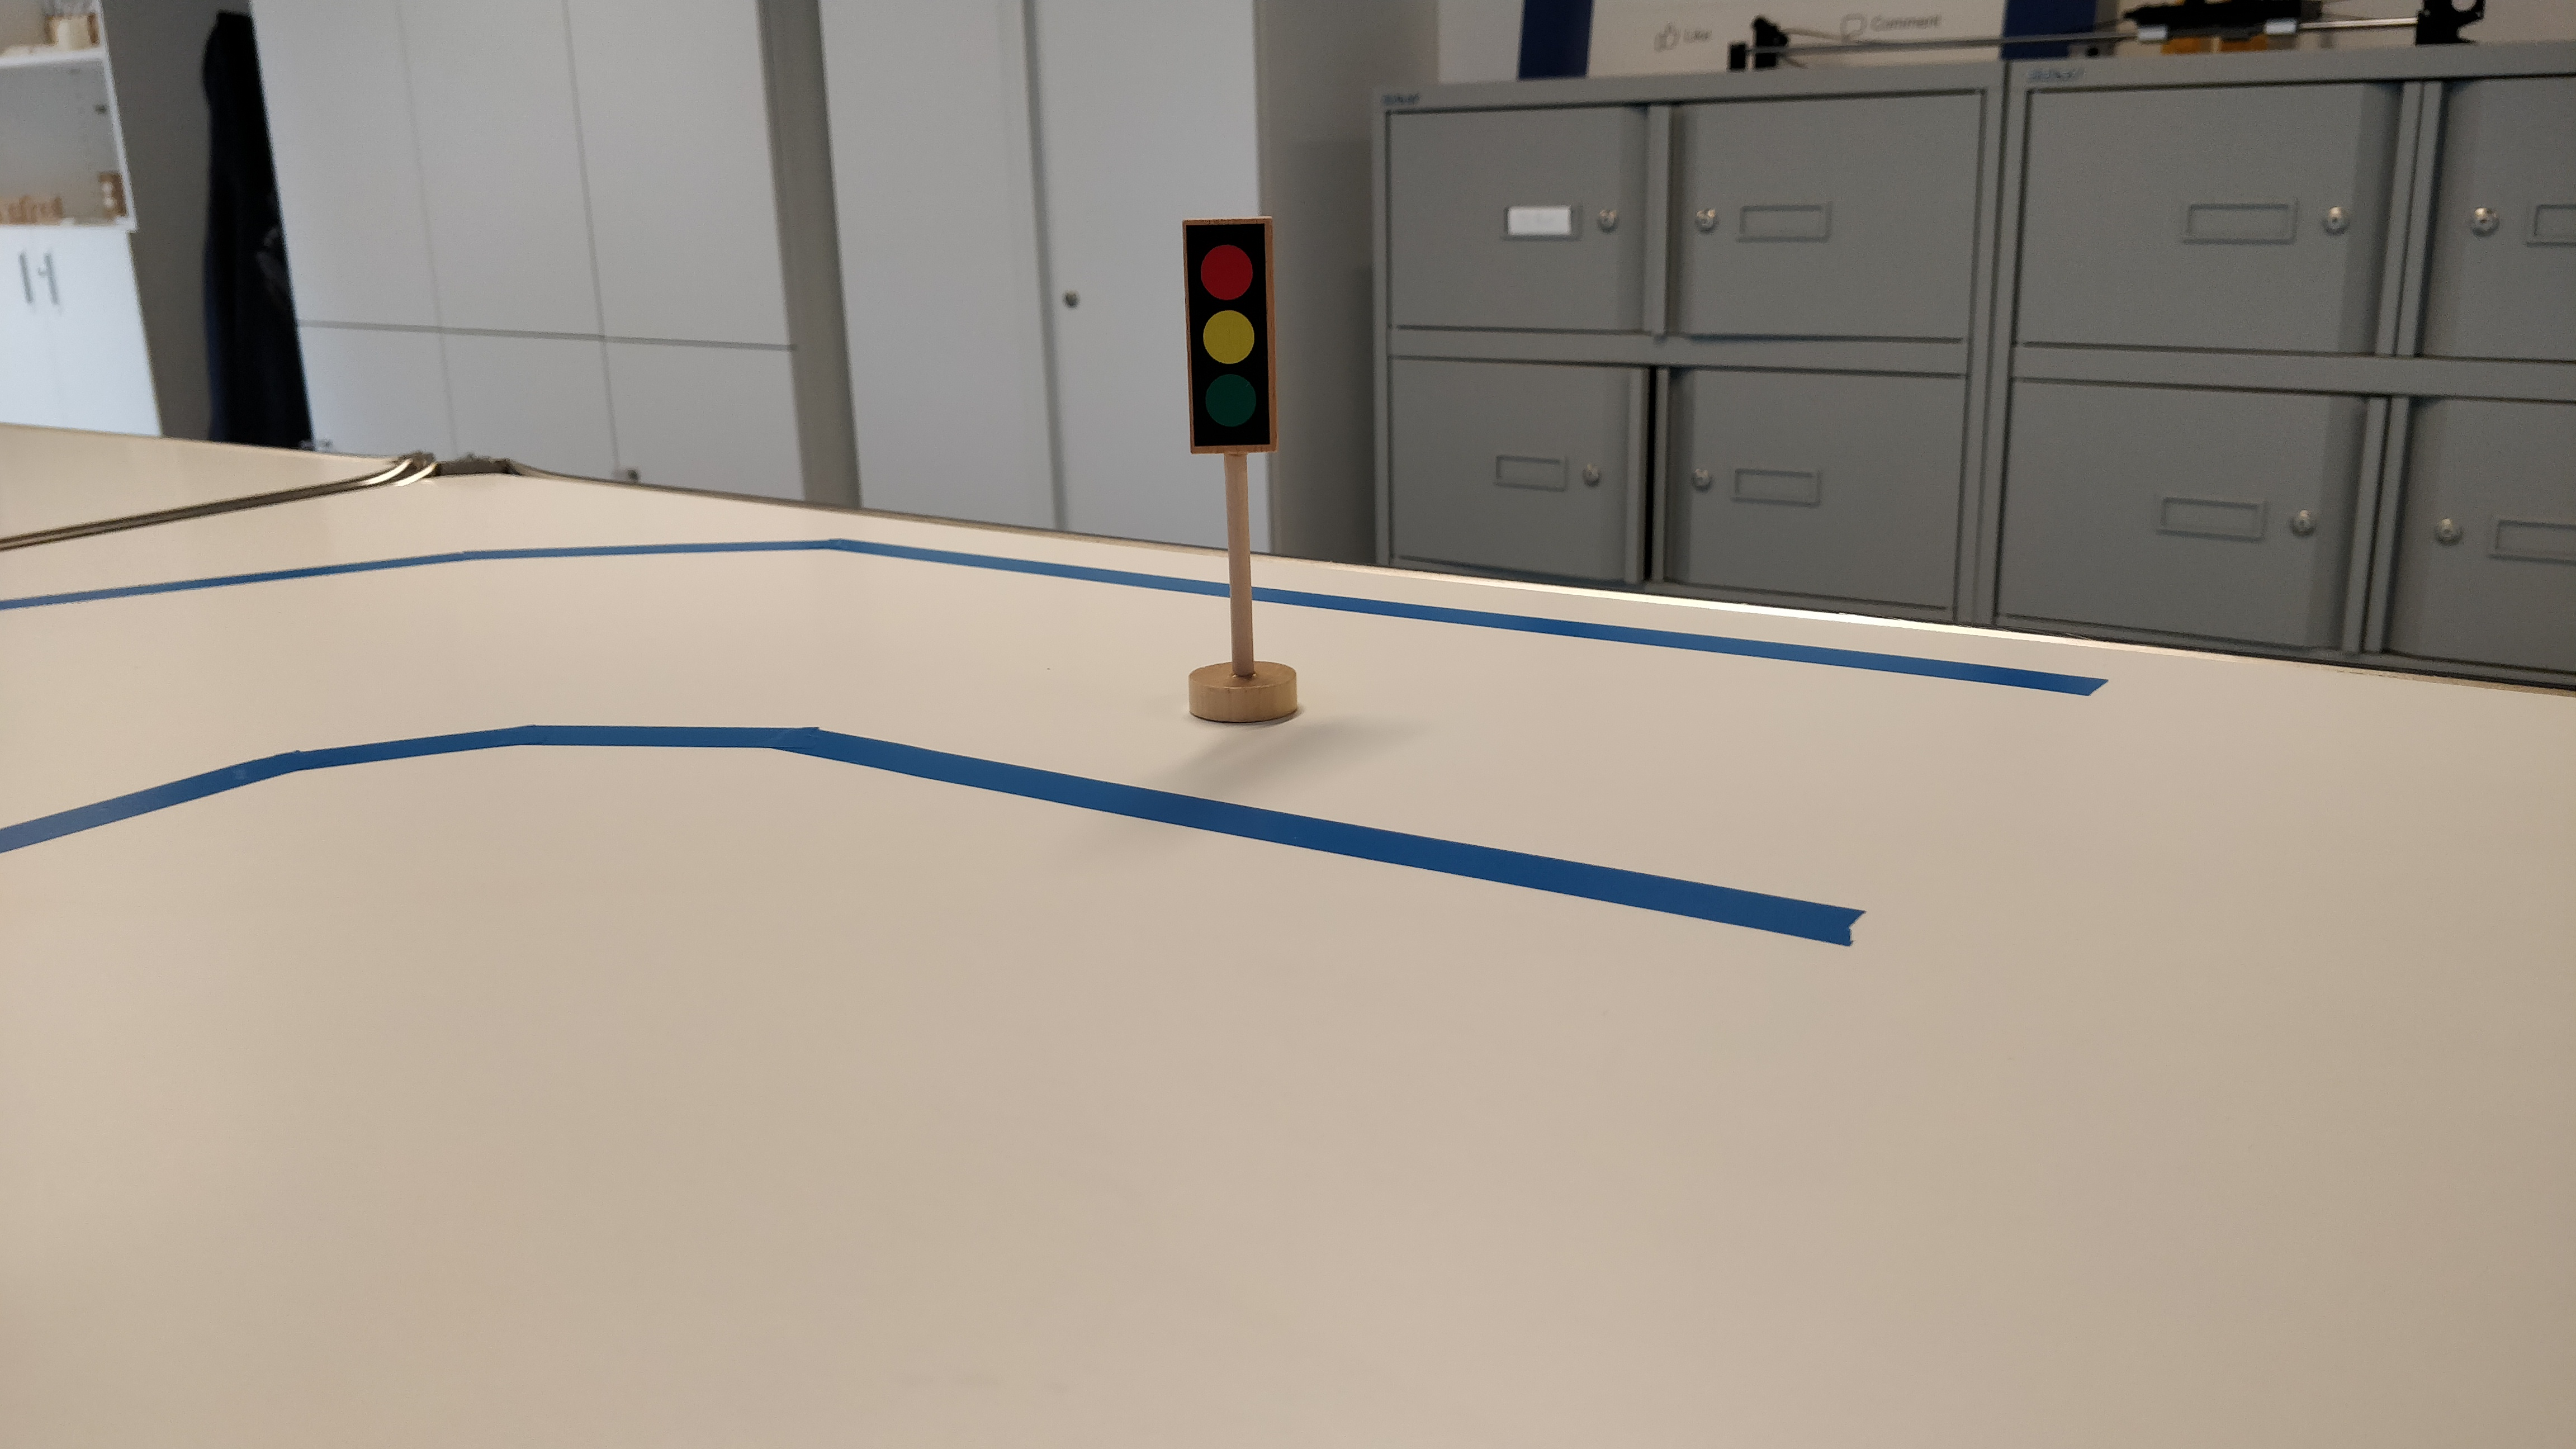Traffic Light: (1181, 214, 1282, 453)
